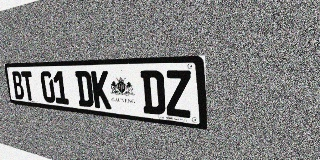0: (40, 71, 56, 103)
1: (52, 71, 69, 105)
B: (11, 71, 25, 100)
D: (140, 70, 166, 115), (75, 71, 94, 107)
K: (91, 71, 112, 109)
T: (21, 71, 35, 101)
Z: (164, 70, 192, 118)
